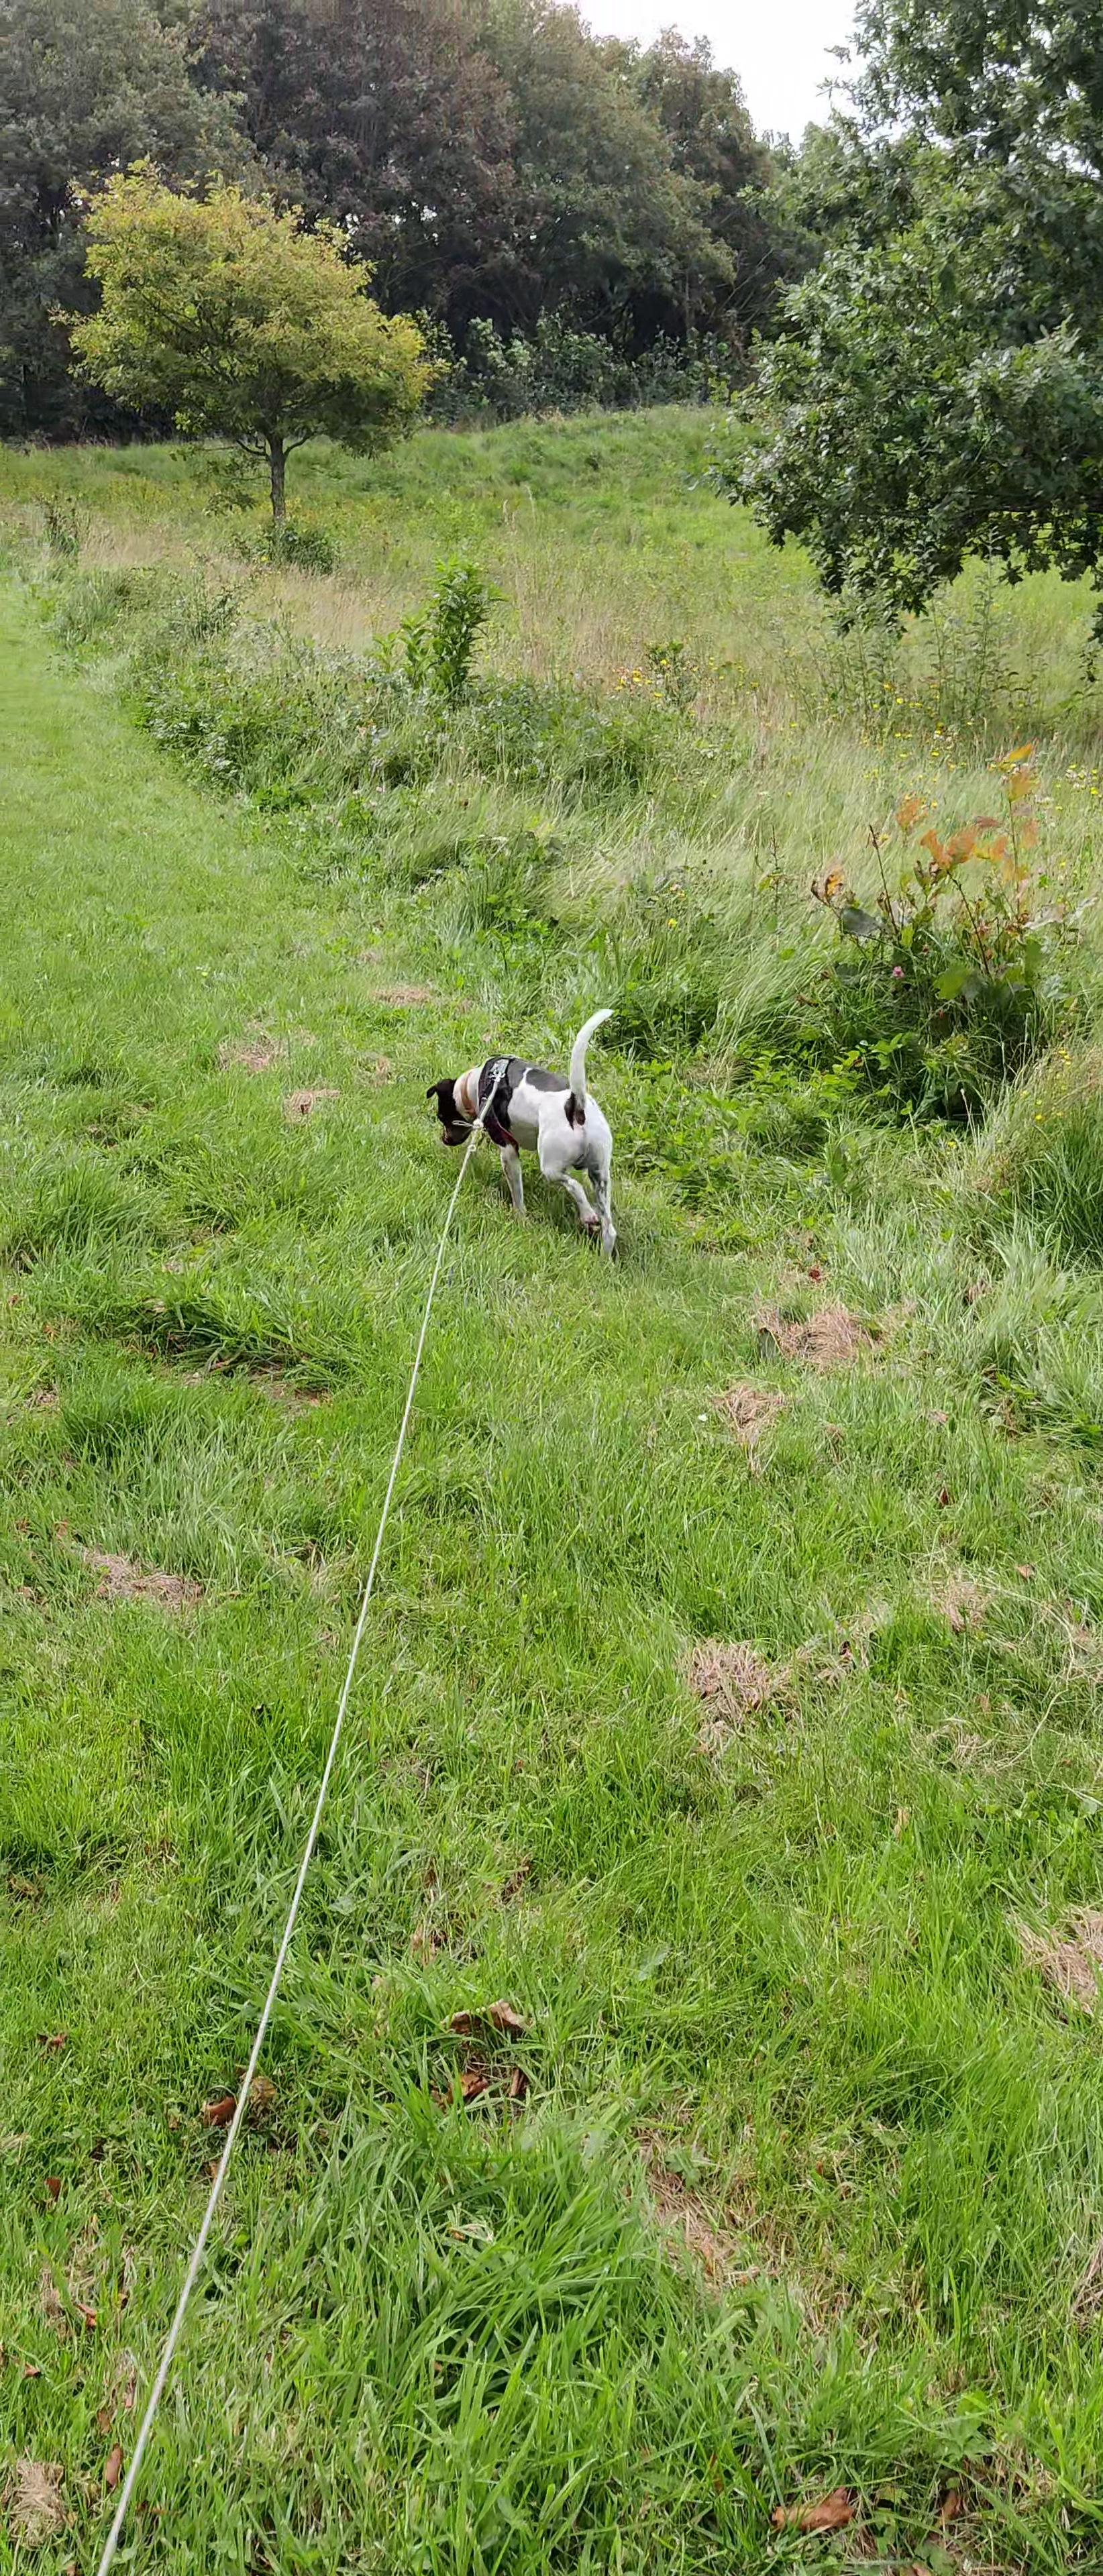Dog: (403, 992, 638, 1276)
